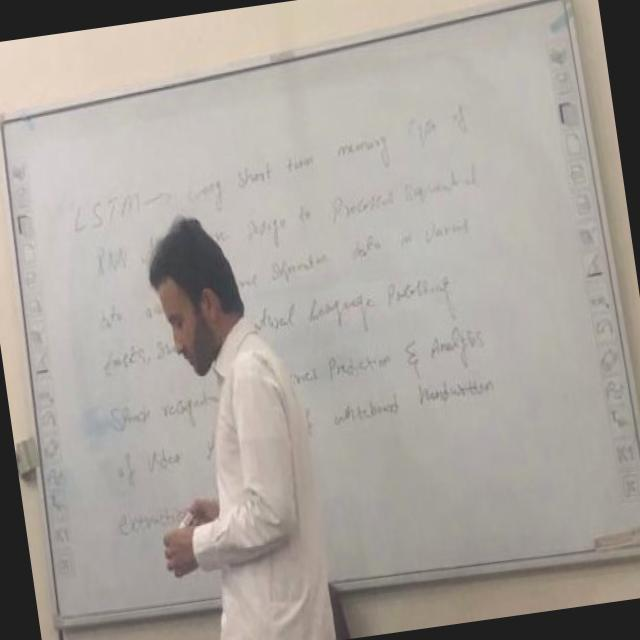Instructor: (137, 191, 343, 640)
White-board: (4, 0, 640, 625)
